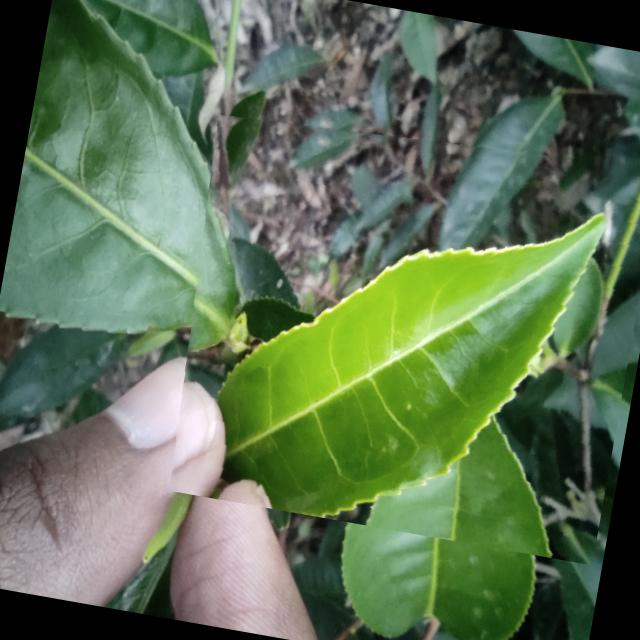Category C(4-7 days): (152, 91, 640, 564)
